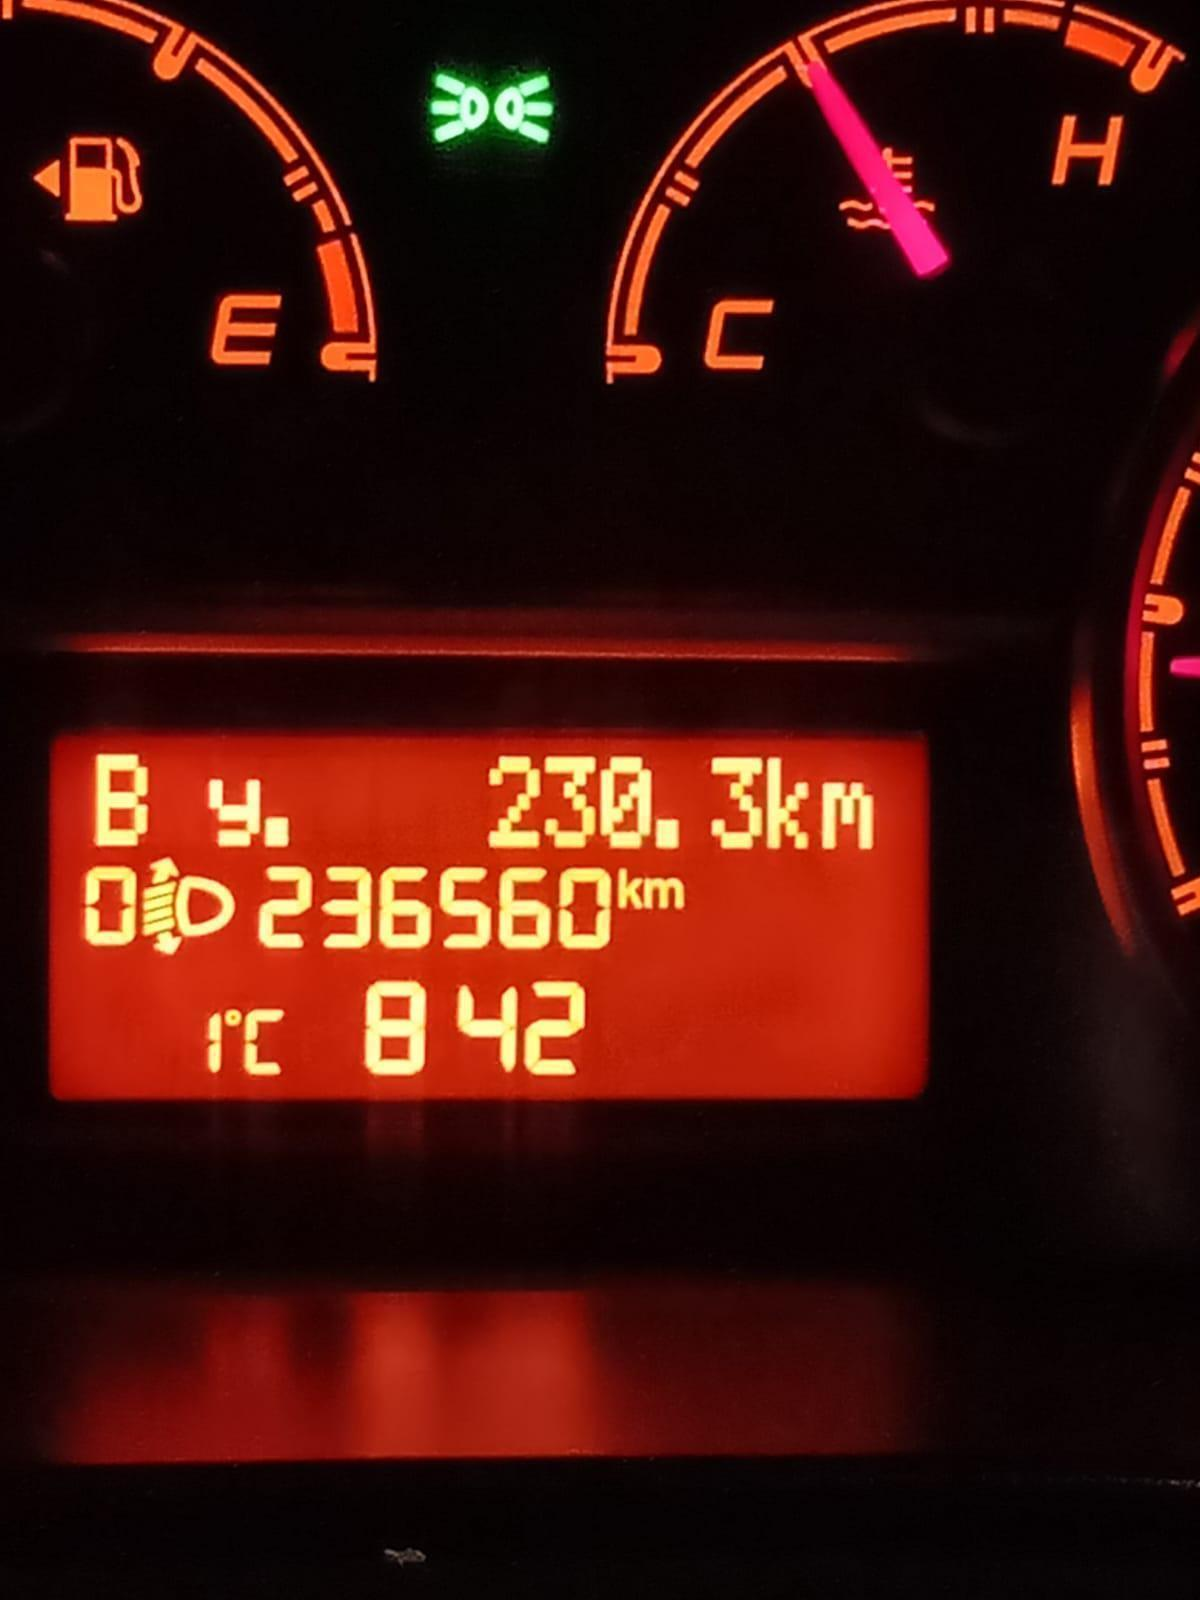,: (258, 815, 292, 850), (653, 814, 683, 850)
0: (597, 755, 654, 850), (79, 863, 140, 947), (555, 866, 614, 951)
1: (203, 1010, 224, 1077)
2: (521, 979, 587, 1076), (487, 753, 542, 849), (255, 864, 314, 951)
3: (539, 751, 597, 850), (708, 753, 766, 850), (320, 864, 376, 952)
4: (451, 981, 521, 1075)
5: (437, 864, 495, 950)
6: (497, 864, 552, 951), (378, 864, 434, 951)
8: (361, 975, 429, 1077)
X: (89, 750, 151, 849), (765, 755, 813, 850), (819, 779, 879, 853), (205, 776, 262, 850), (239, 1005, 289, 1078), (640, 876, 686, 913), (614, 866, 644, 913)
odometer: (37, 719, 944, 1117)
